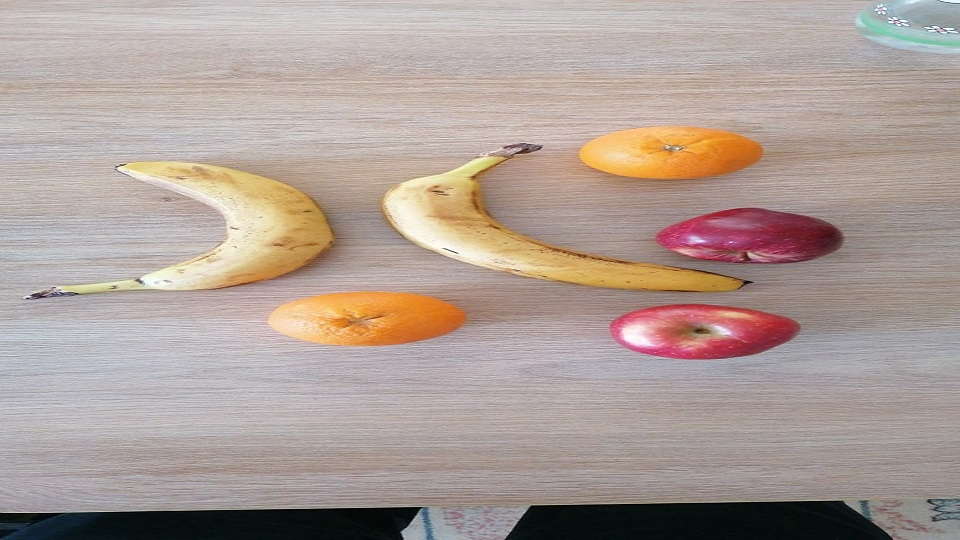elma: (608, 303, 801, 360), (656, 207, 844, 265)
muz: (380, 141, 748, 292), (26, 160, 336, 293)
portakal: (266, 289, 467, 348), (578, 125, 764, 180)
